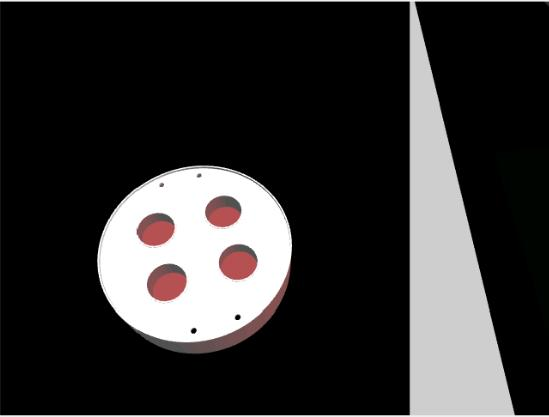hole: (143, 261, 190, 305), (131, 210, 179, 251), (215, 241, 260, 284), (199, 193, 247, 232)
